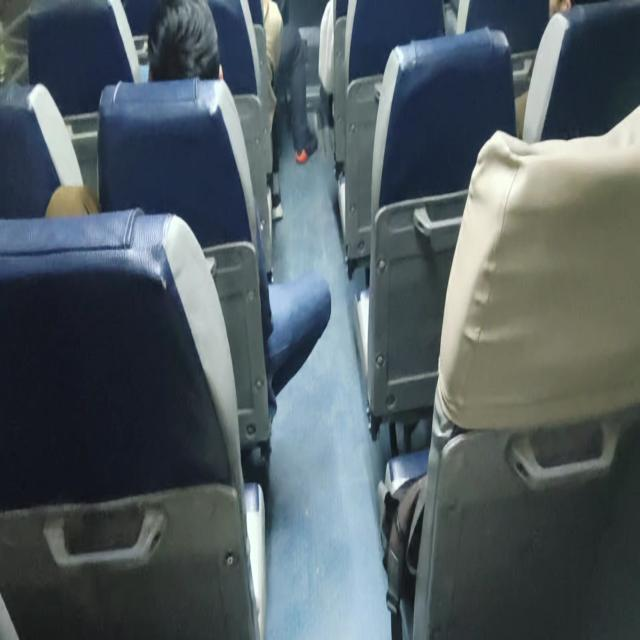person: (45, 0, 331, 460), (514, 0, 574, 138), (248, 0, 284, 222), (146, 0, 222, 82)
